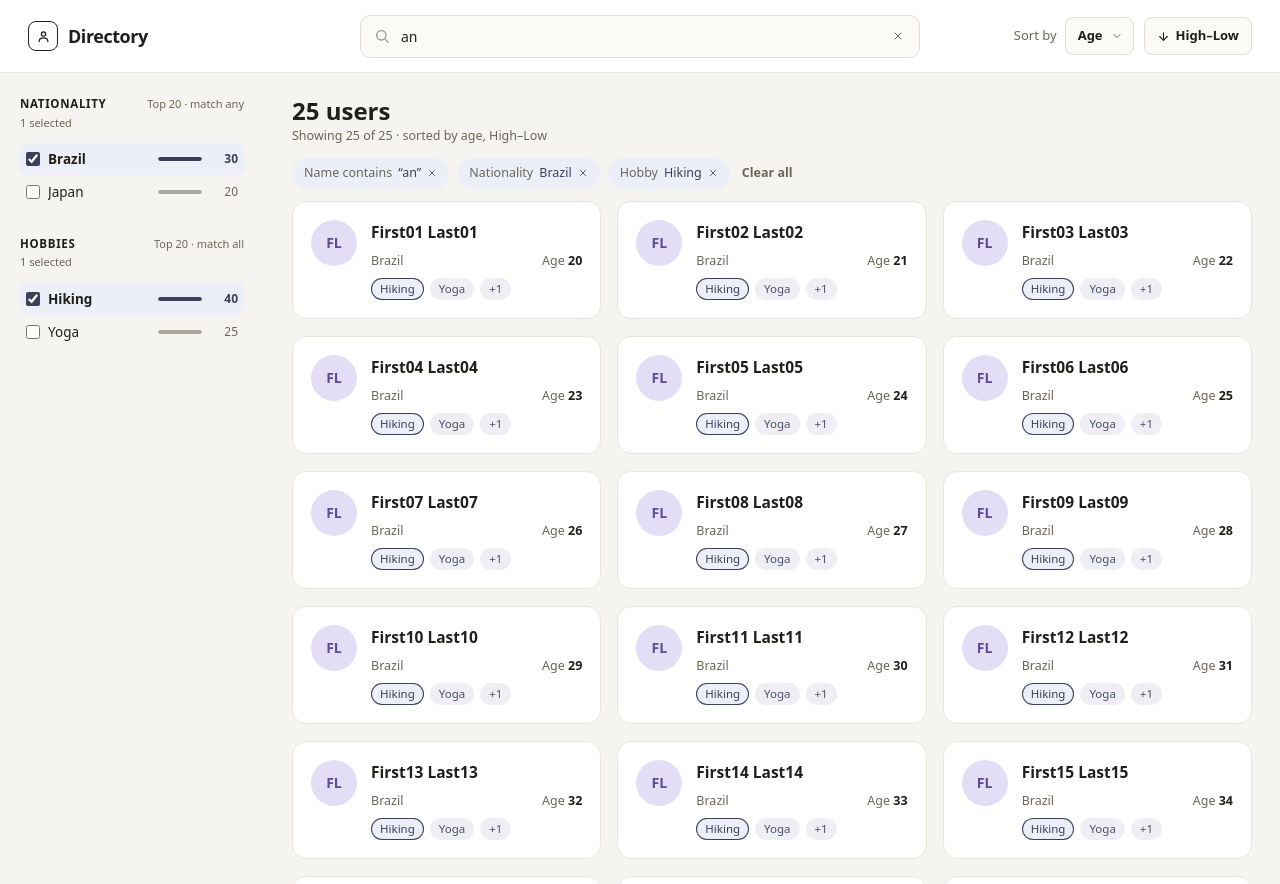
Test: URL-synced state › 'Clear all' removes search and filters but keeps the sort
Expected: the heading "First01 Last01" is shown, [371,220,478,242]
Click the button "Clear all" at (767, 173), box [738,164,797,183]
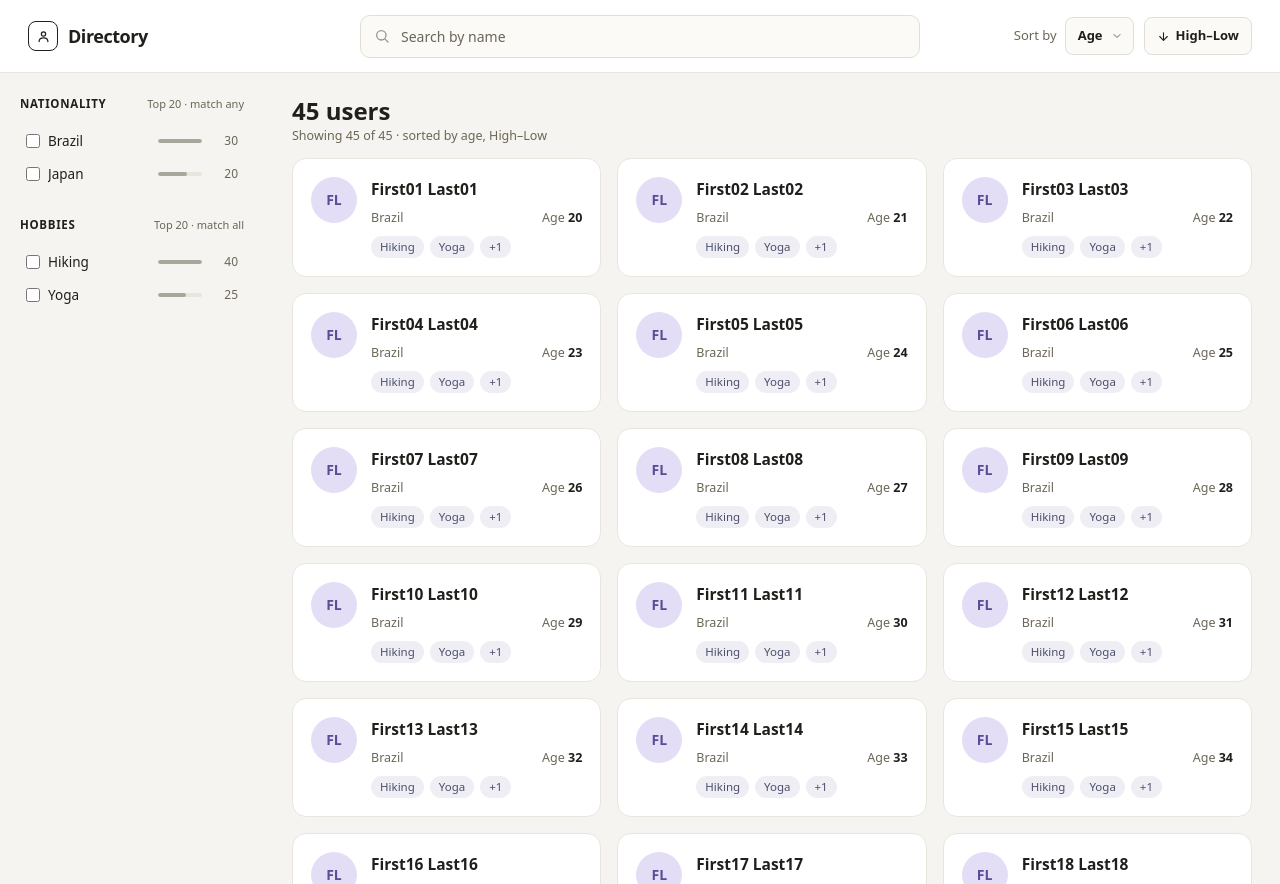
Now the search field is empty, box [360,14,920,58]
